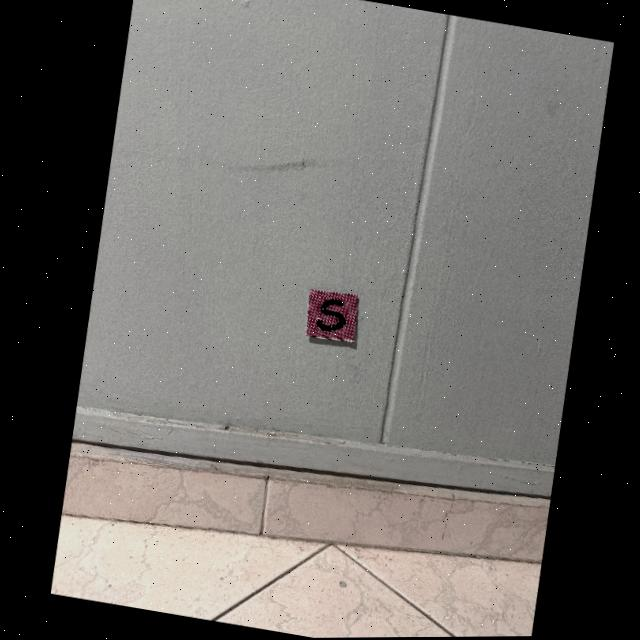S: (314, 300, 342, 331)
